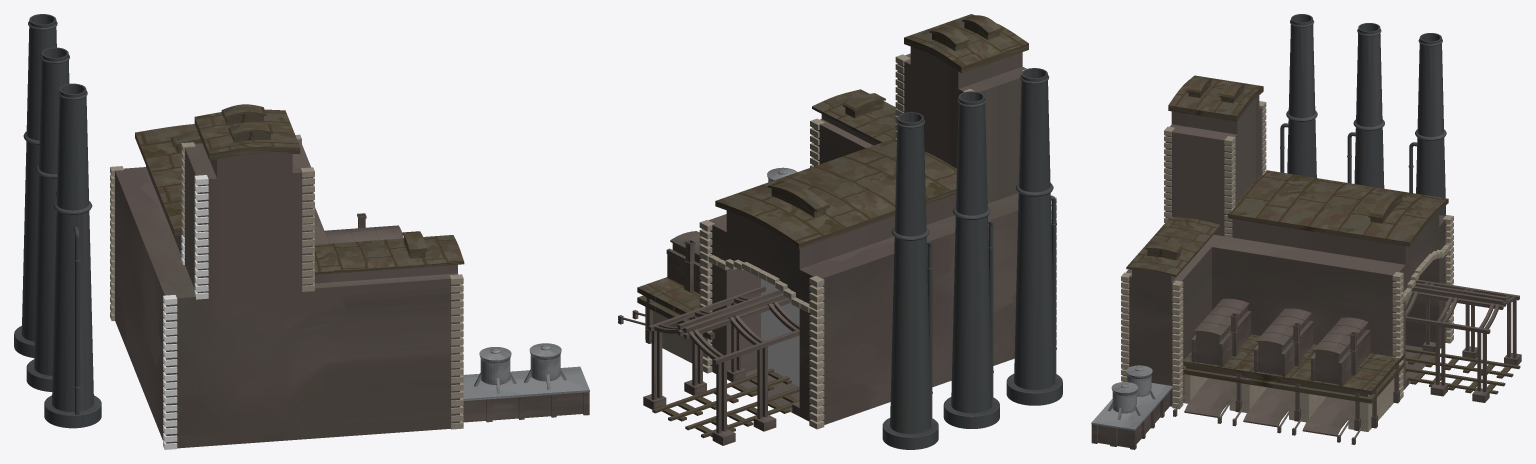
File: Forschungslabor_v2.glb
The picture shows the model from 3 angles, left to right: view 1: azimuth 30°, elevation 25°; view 2: azimuth 150°, elevation 25°; view 3: azimuth 270°, elevation 25°; orthographic projection. The views are drawn at different scales.
Visible parts, largest first — view 1: Cube.002; view 2: Cube.002; view 3: Cube.002.
Boxes of the visible parts, x1,y1,x2,y2 form: Cube.002: (14,14,589,449); Cube.002: (618,14,1062,449); Cube.002: (1091,14,1521,449).
Bounding box in the file's own units: 17.62 × 12.87 × 18.54.
6 materials, 5 textured.
